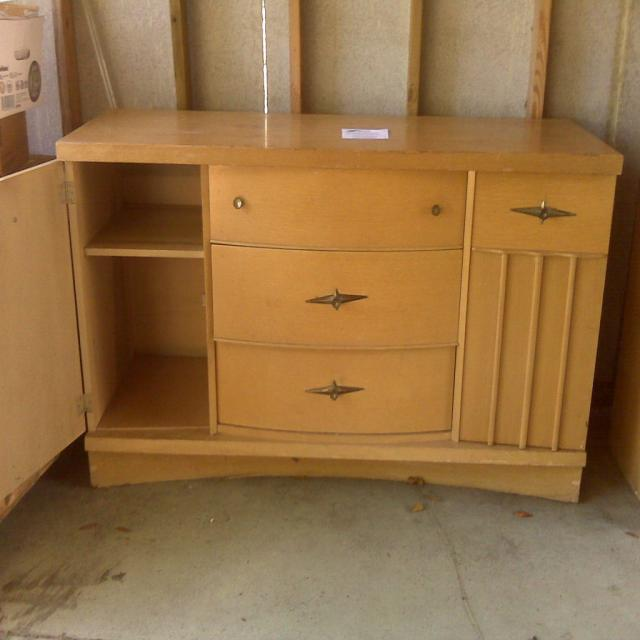Handle: (512, 185, 578, 237), (306, 275, 372, 322), (308, 370, 372, 413), (421, 192, 460, 235), (222, 178, 258, 220)
beside table: (55, 118, 610, 517)
